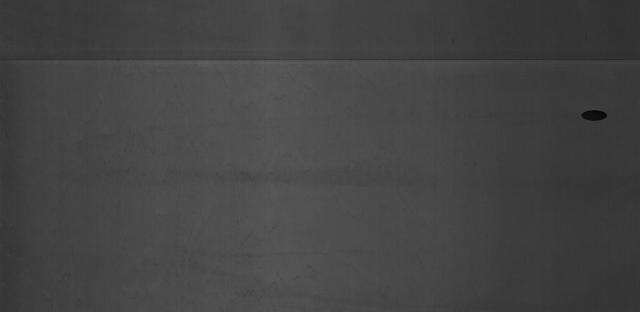punching_hole: (578, 103, 614, 126)
welding_line: (2, 50, 640, 74)
